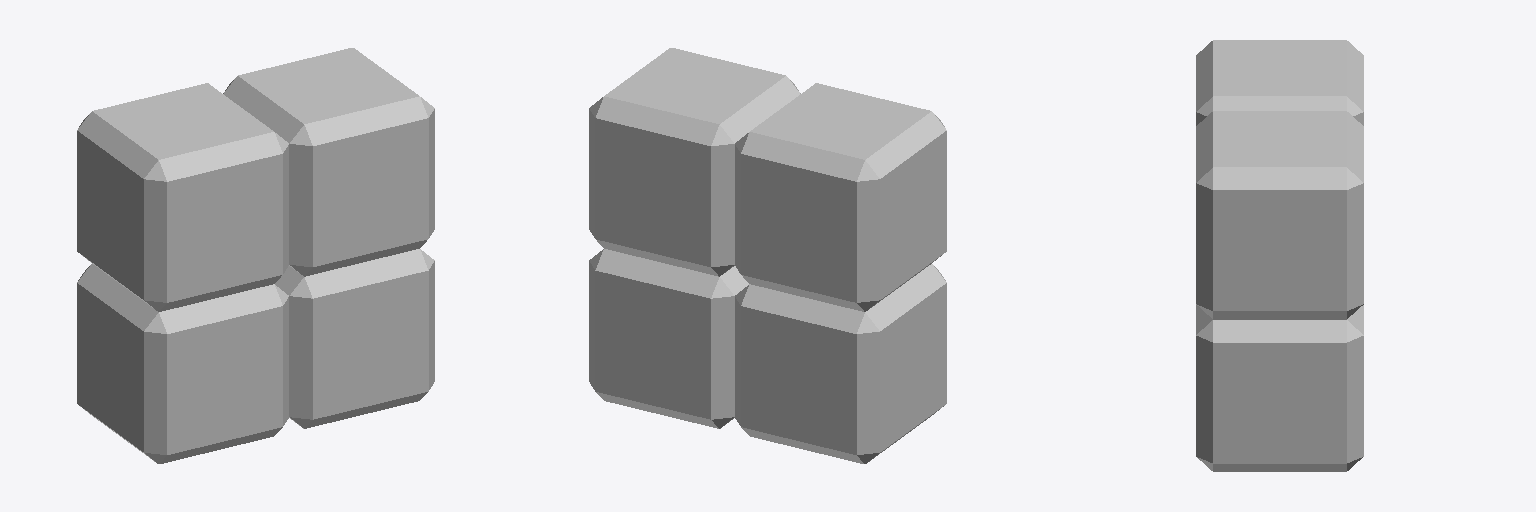
The model's file is primitive_2.obj.
3 views of the same model, side by side, from view 1: azimuth 30°, elevation 25°; view 2: azimuth 150°, elevation 25°; view 3: azimuth 270°, elevation 25° (orthographic).
Visible parts, largest first — view 1: Cube.003, Cube.001, Cube, Cube.002; view 2: Cube.003, Cube.001, Cube, Cube.002; view 3: Cube, Cube.002, Cube.003.
Part boxes in pixels (bbox=[...]): Cube.003: bbox=[77, 83, 288, 311]; Cube.001: bbox=[77, 264, 288, 463]; Cube: bbox=[223, 48, 434, 276]; Cube.002: bbox=[275, 249, 434, 428]; Cube.003: bbox=[735, 83, 946, 311]; Cube.001: bbox=[735, 264, 946, 463]; Cube: bbox=[589, 48, 800, 276]; Cube.002: bbox=[589, 249, 748, 428]; Cube: bbox=[1196, 111, 1363, 319]; Cube.002: bbox=[1196, 305, 1363, 471]; Cube.003: bbox=[1196, 40, 1363, 125].
Bounding box in the file's own units: 4 × 4 × 2.